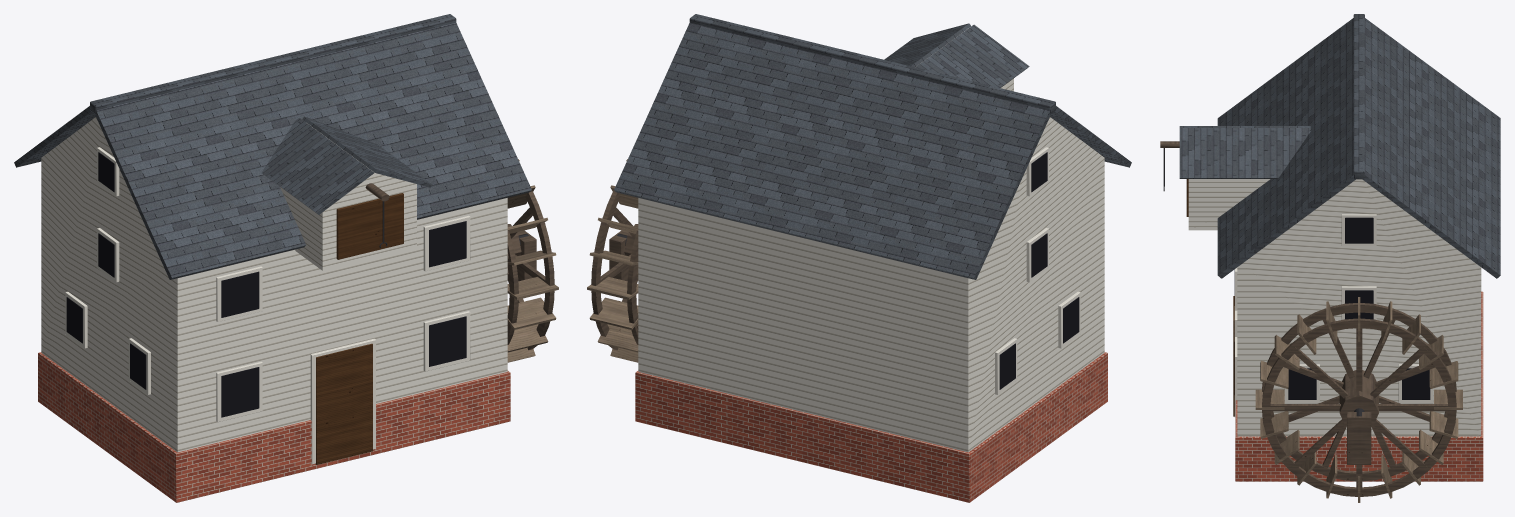
Rendered from watermill.glb.
3 views of the same model, side by side, from view 1: azimuth 30°, elevation 25°; view 2: azimuth 150°, elevation 25°; view 3: azimuth 270°, elevation 25° (orthographic). The views are drawn at different scales.
Parts seen in each view (by area): view 1: watermill-Timber_Watermill, Wheel; view 2: watermill-Timber_Watermill, Wheel; view 3: watermill-Timber_Watermill, Wheel.
Boxes of the visible parts, box(x1,y1,x2,y2) form: watermill-Timber_Watermill: box(14, 14, 536, 502); Wheel: box(507, 159, 558, 362); watermill-Timber_Watermill: box(609, 14, 1131, 502); Wheel: box(587, 159, 638, 362); watermill-Timber_Watermill: box(1160, 14, 1500, 481); Wheel: box(1255, 297, 1462, 502).
Bounding box in the file's own units: 4.83 × 3.71 × 3.63.
6 materials, 5 textured.
